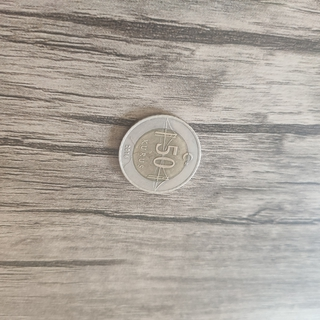50KURUS: (116, 111, 201, 195)
